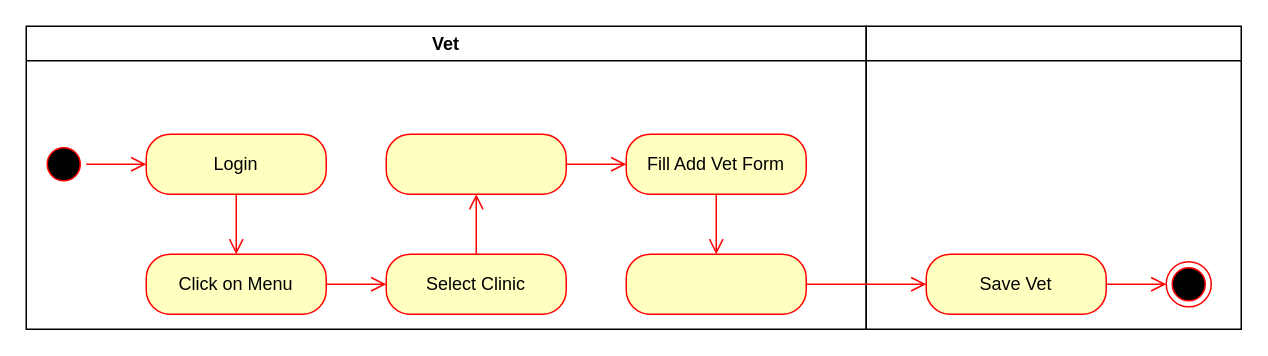
Some shapes in this 1268 by 356 pixel diagram are drawn without their labels. Here are the shapes that lost their labels. From the top down, the box of each, then its label:
(385, 133, 566, 194): Click on "Add Vet"
(865, 25, 1241, 329): System
(625, 253, 806, 314): Click on "Save" Button
